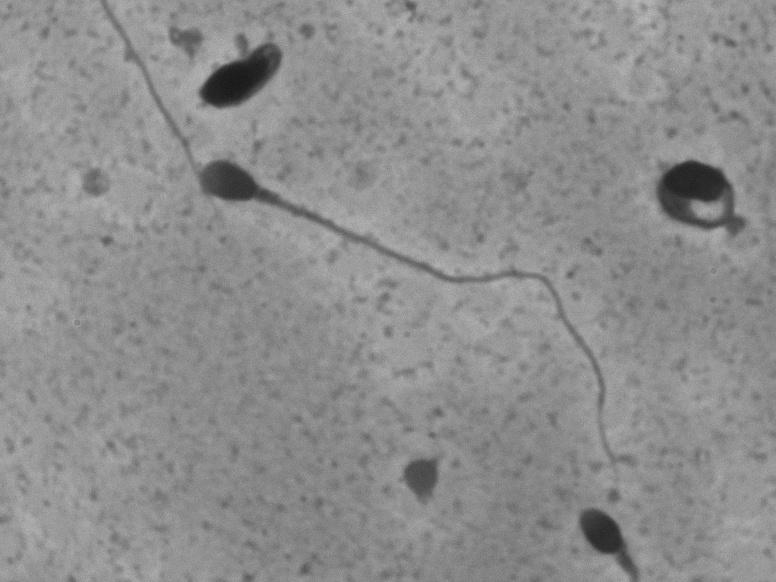Abnormal: (643, 134, 772, 242)
Normal: (192, 146, 632, 520)
